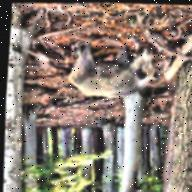boar: (48, 36, 160, 124)
